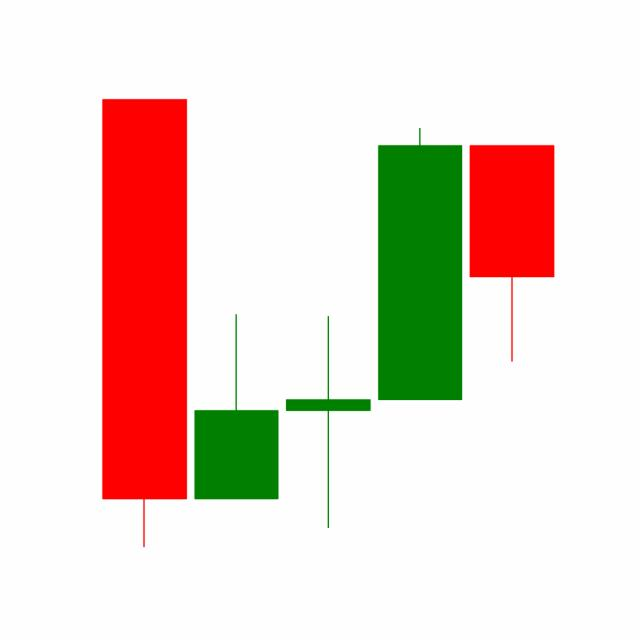Marubozu: (373, 125, 467, 402)
